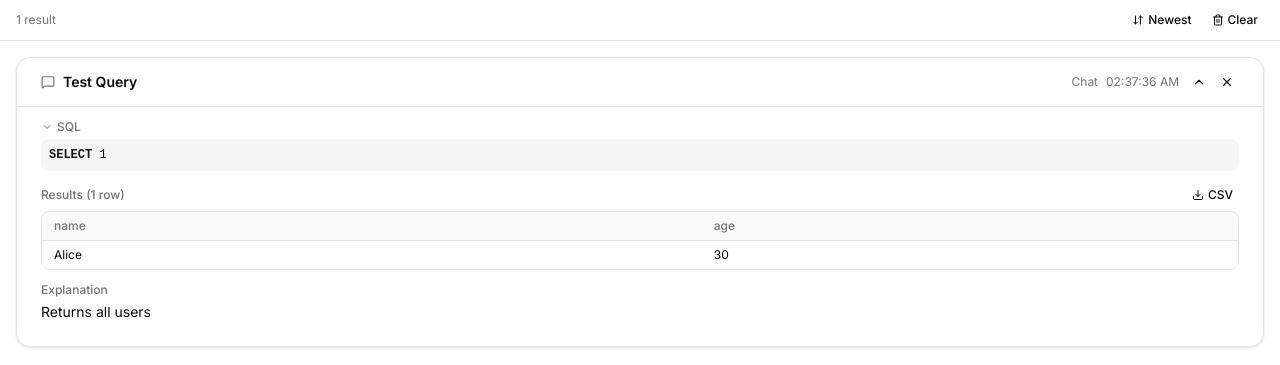
Test case: ResultsPanel › can toggle card expanded/collapsed state
Expected: the element with test id "result-sql-section-r1" is shown, [41,119,1239,171]
// Collapse the card
Click the button with test id "toggle-expand-r1" at (1199, 82), box [1187,70,1211,94]
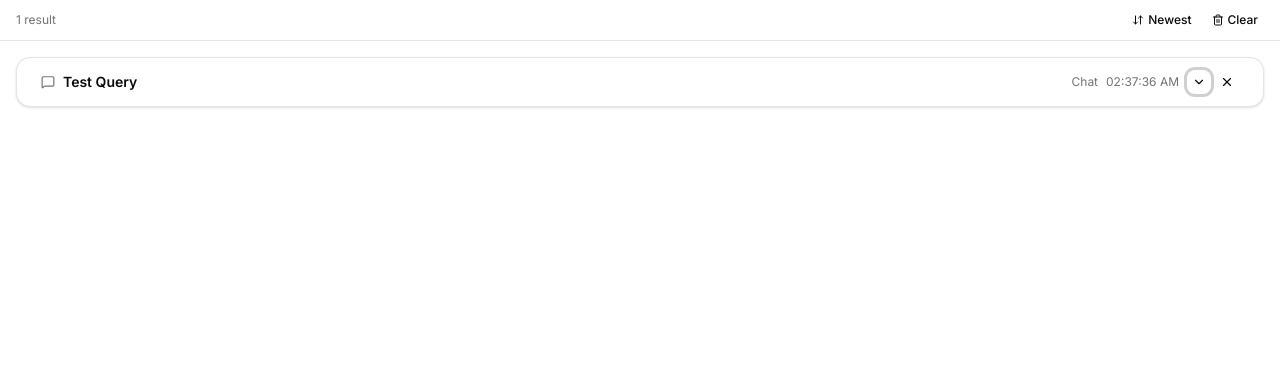
Now the element with test id "result-sql-section-r1" is gone
